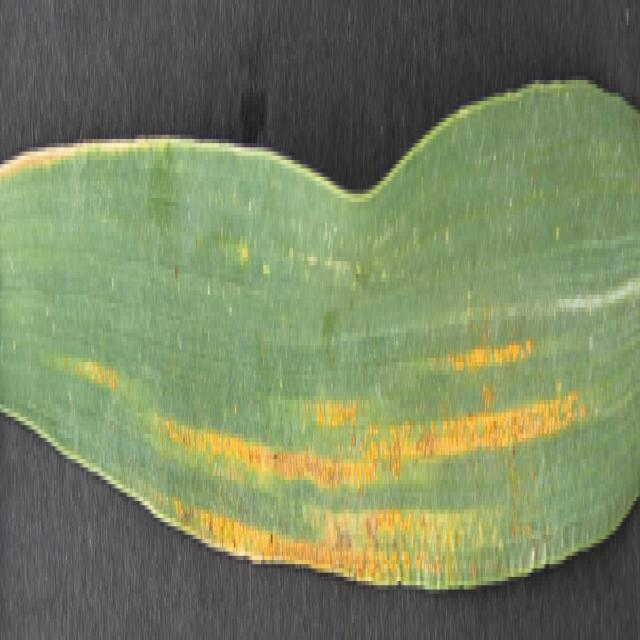leaf rust: (116, 236, 598, 594)
